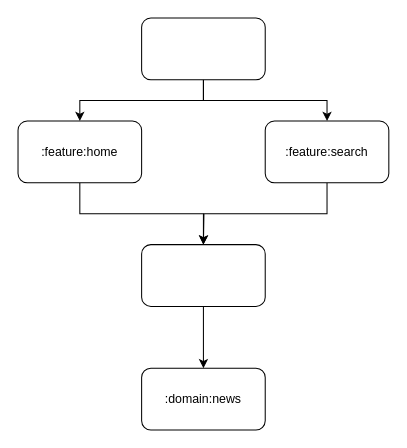
The diagram is 407 pixels wide and 448 high, and some of its shapes have lost their labels. Here are the shapes that lost their labels. From the top down, the centre of each, then its label:
point (203, 48): App
point (203, 275): :data:news
